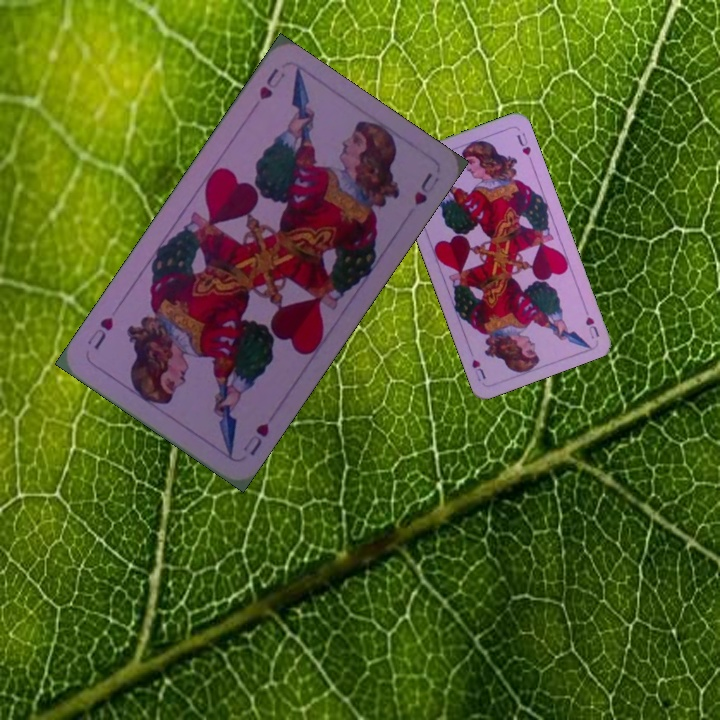HU: (239, 419, 272, 459), (255, 64, 288, 103), (580, 303, 602, 342)
